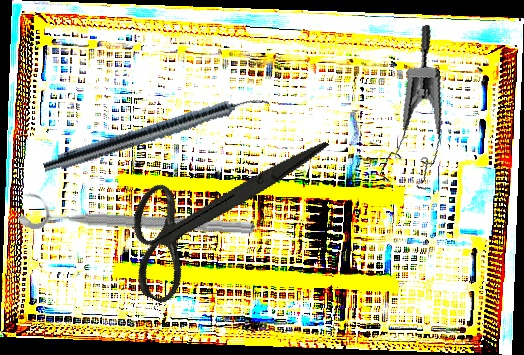Fixation Ring: (16, 190, 256, 241)
Handpiece: (41, 86, 271, 180)
Iris Scissors: (103, 81, 332, 340)
Speculum: (353, 24, 462, 198)
